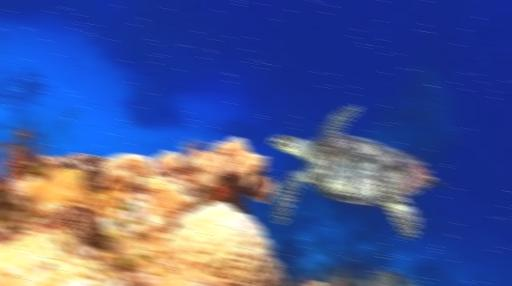Fish: (270, 104, 442, 238)
